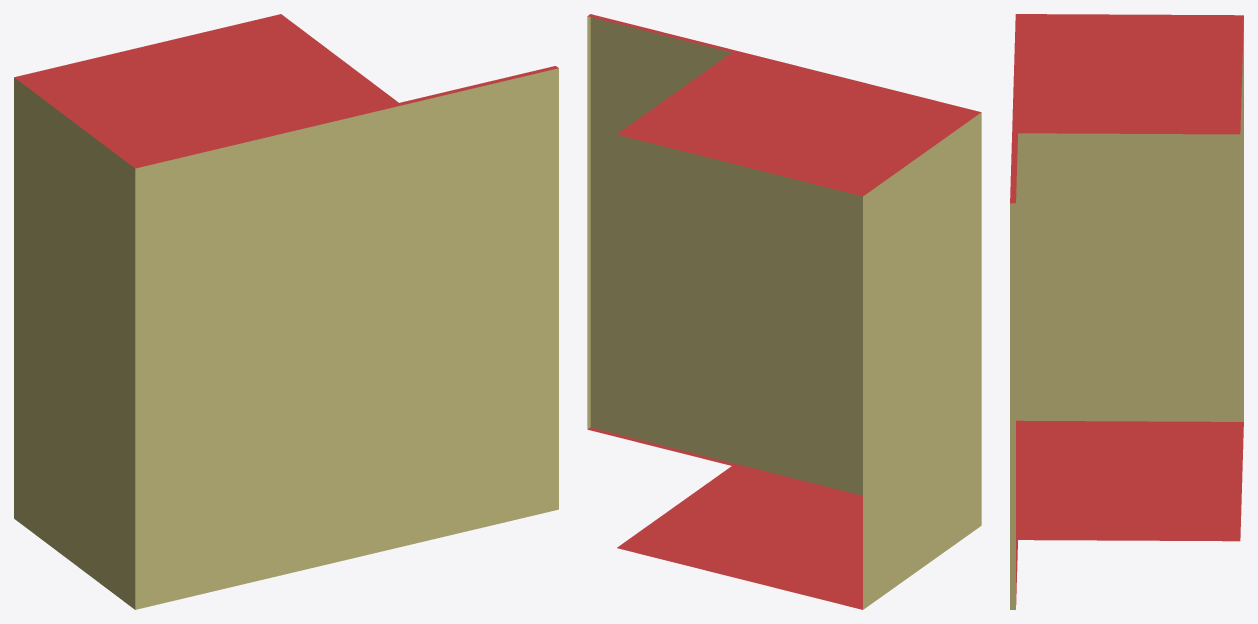
3 views of the same model, side by side, from view 1: azimuth 30°, elevation 25°; view 2: azimuth 150°, elevation 25°; view 3: azimuth 270°, elevation 25° (orthographic). The views are drawn at different scales.
Size of the model in its own units: 7.76 by 4.05 by 7.78.
